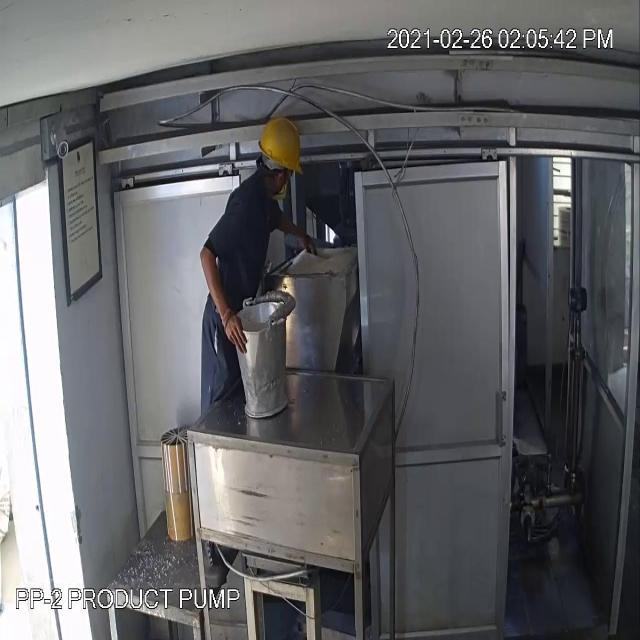helmet: (254, 110, 306, 182)
